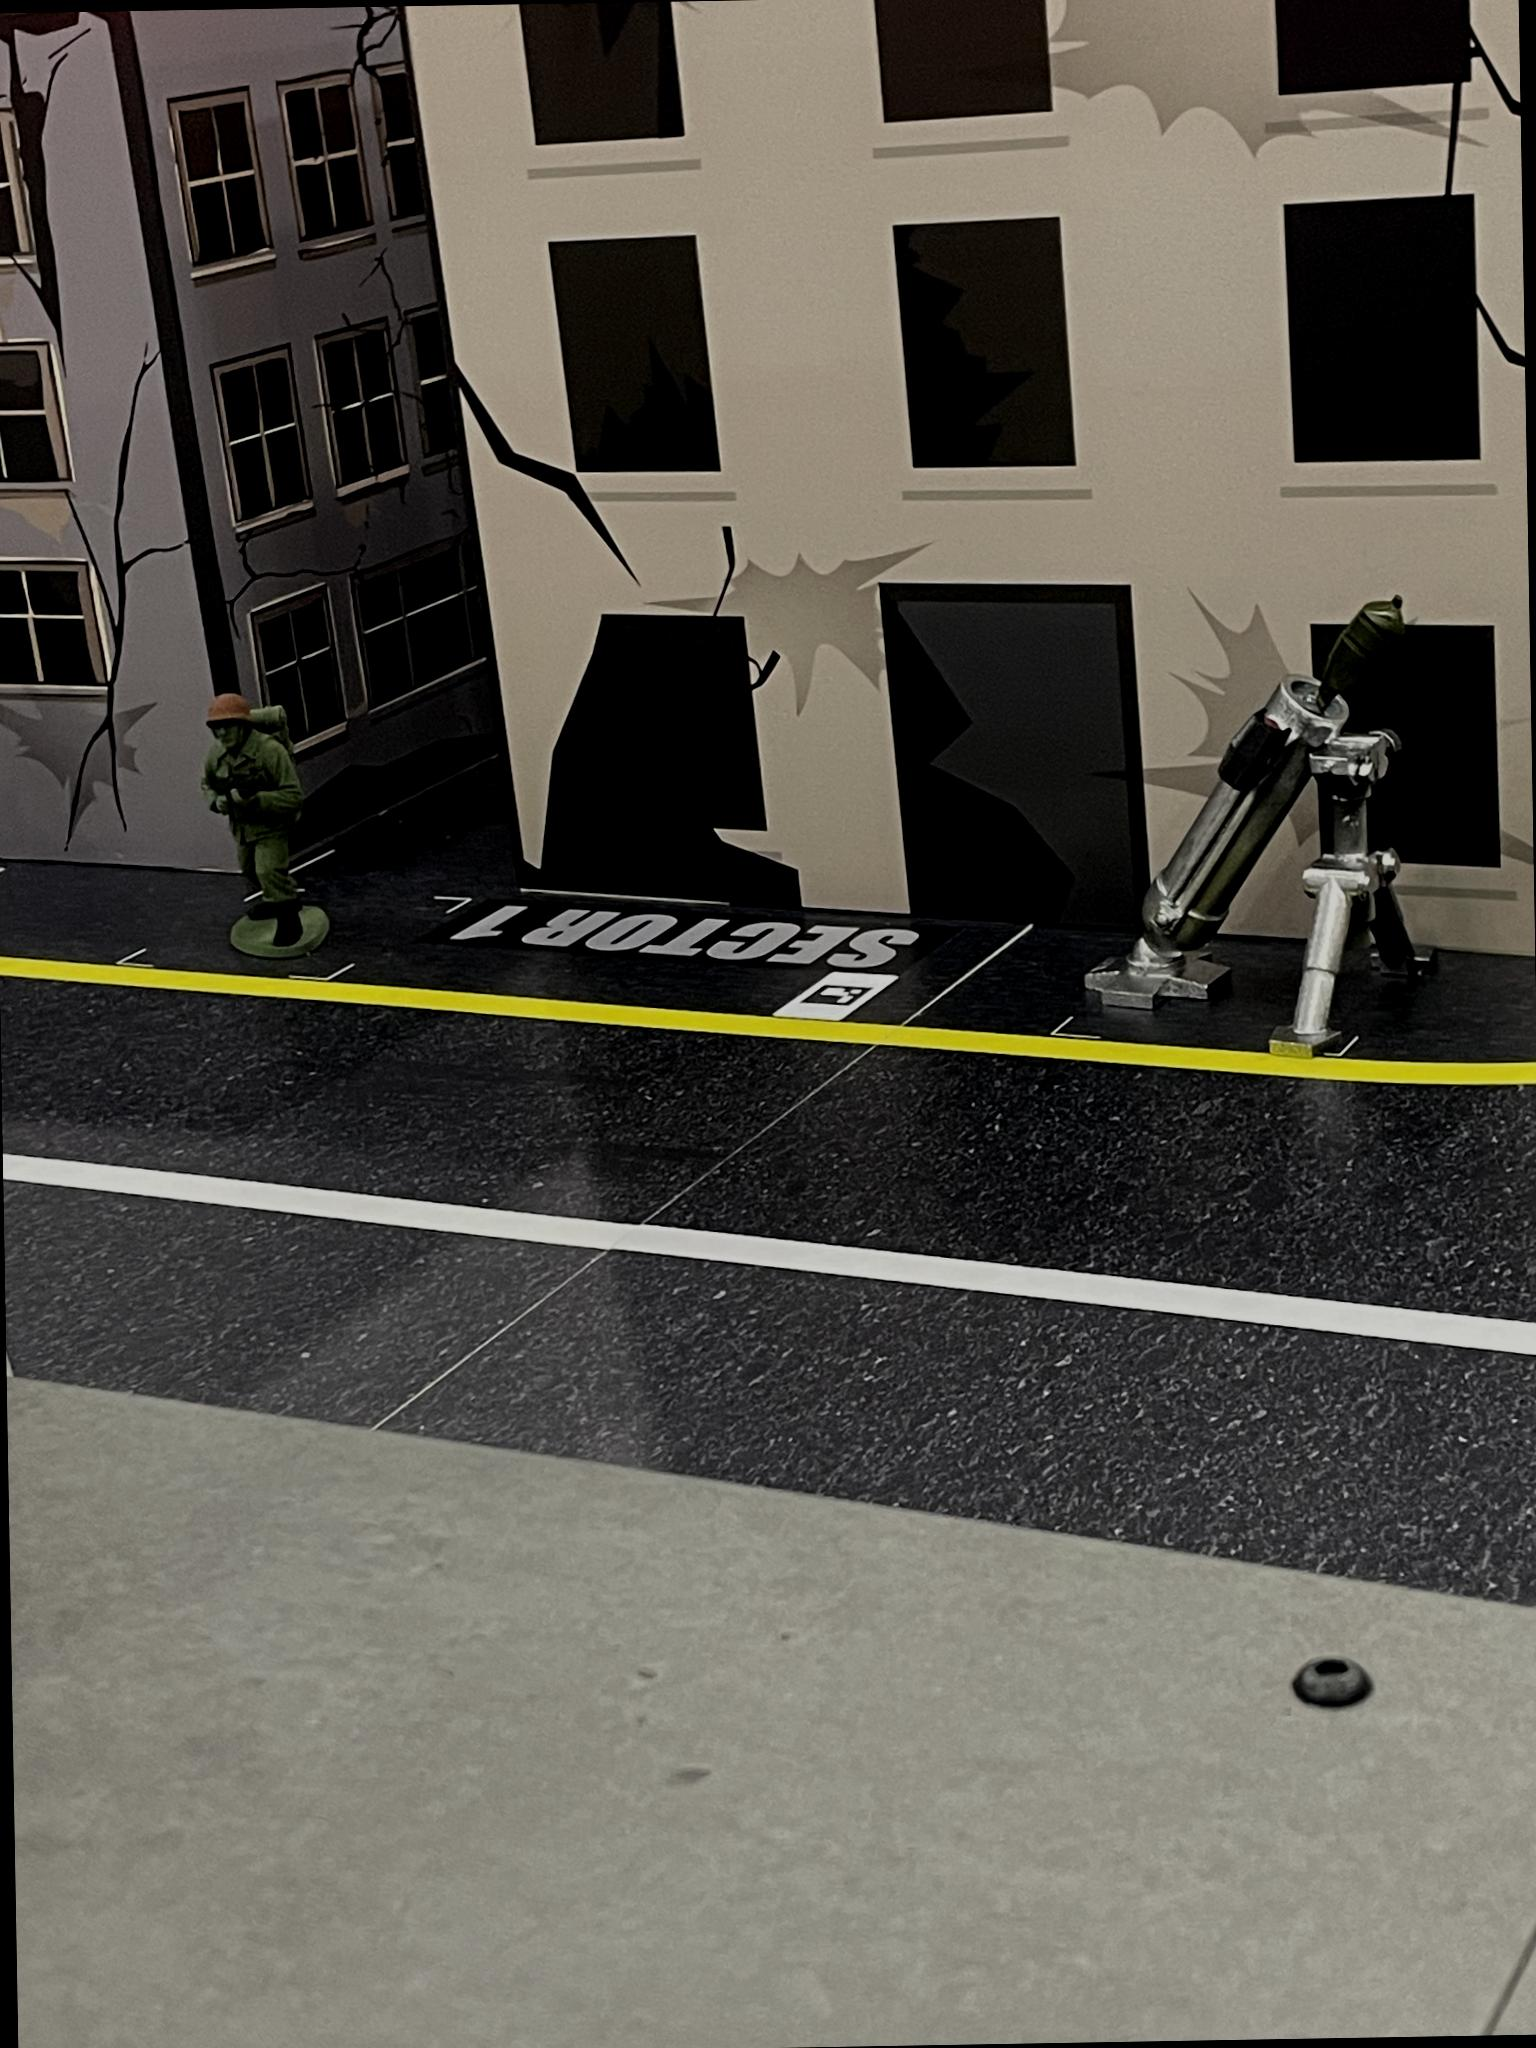Enemy: (195, 692, 331, 971)
Mortar: (1071, 590, 1468, 1077)
